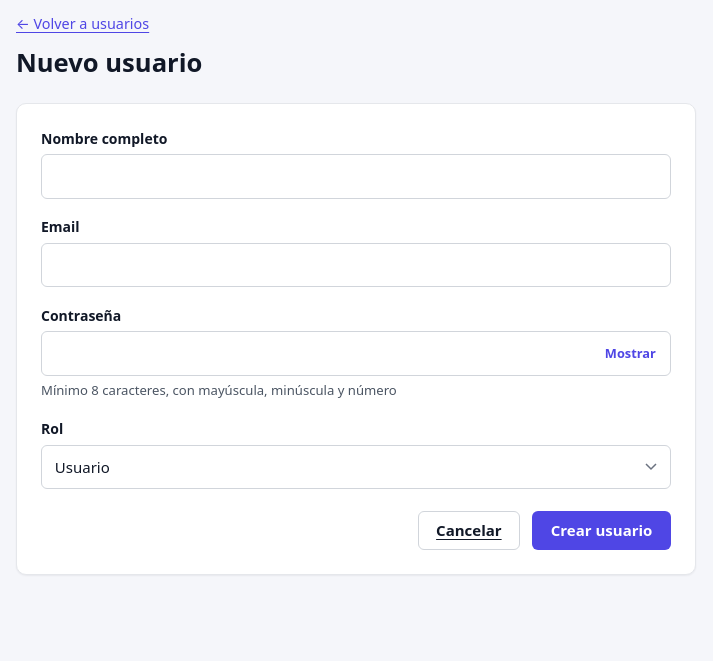
it: UserFormView › muestra el alert general cuando el error no trae detalles por campo
Type "Nuevo Usuario" into the field with test id "user-name" at (356, 176), box [41,154,671,198]
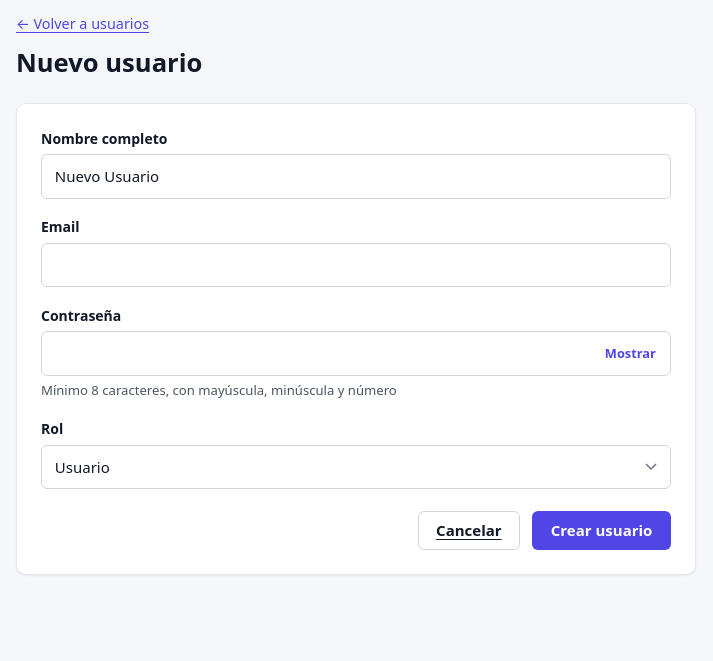
Type "nuevo@demo.com" into the field with test id "user-email" at (356, 265), box [41,243,671,287]
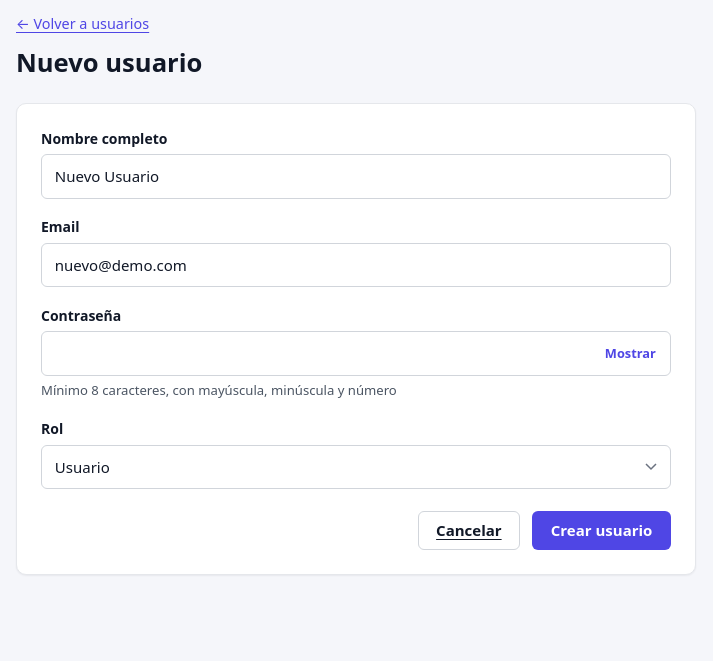
Type "Password123" into the password field with test id "user-password" at (356, 353), box [41,331,671,376]
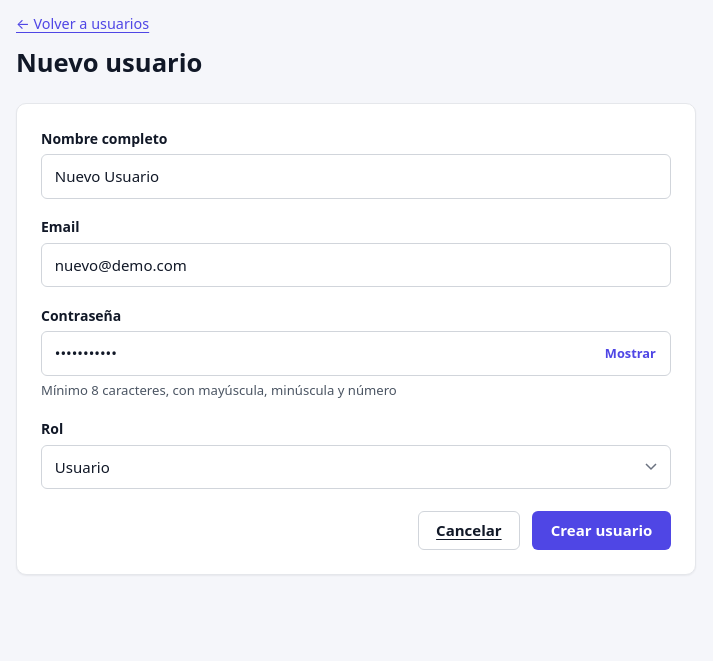
Submit the form with test id "user-form", box [41,128,671,550]
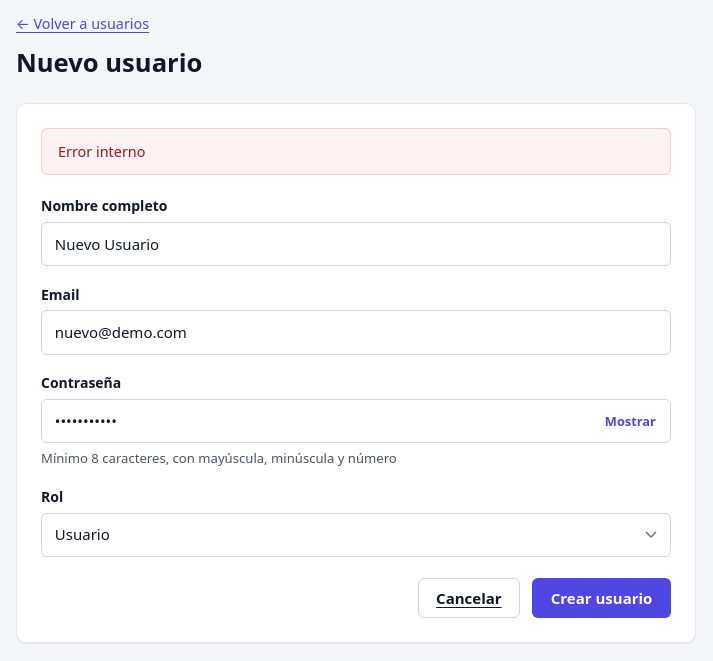
Now the message with test id "alert" reads "Error interno", box [58,142,146,161]
